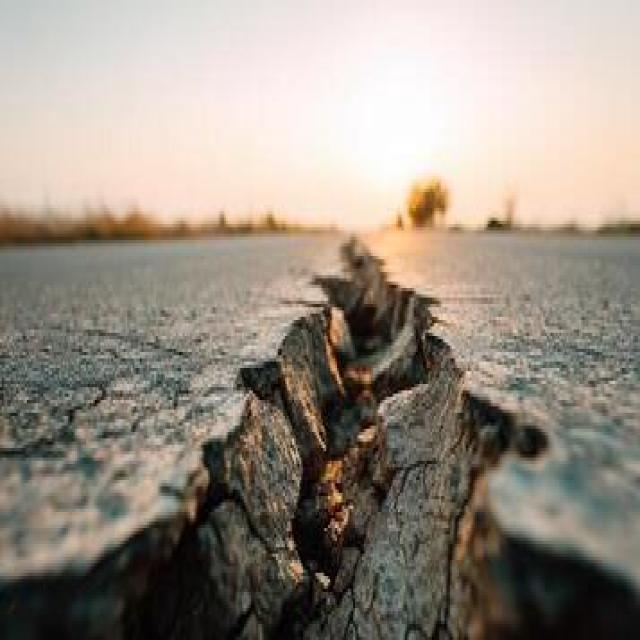road collapse: (75, 77, 640, 640)
